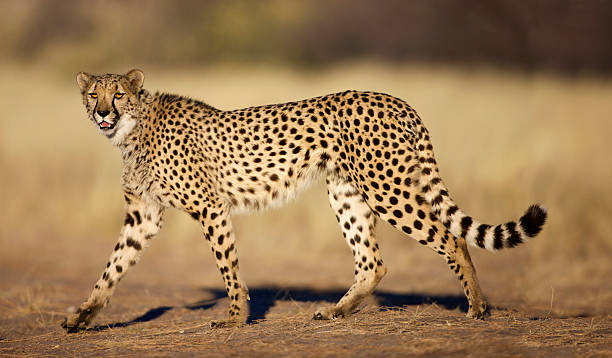cheetah: (64, 65, 153, 141)
